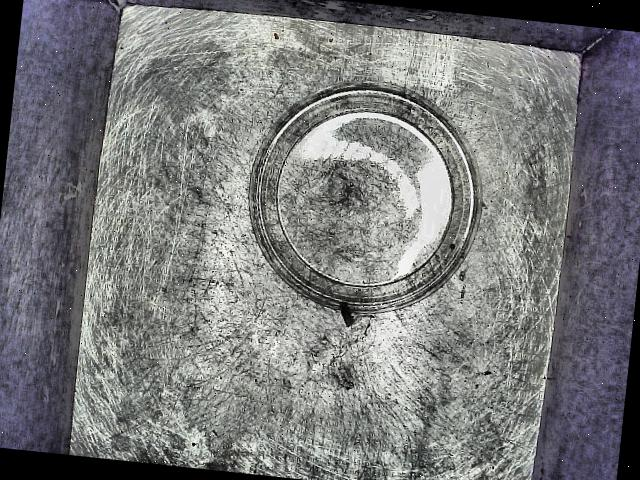Plastic: (234, 70, 488, 334)
